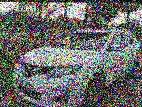car: (11, 27, 141, 107)
